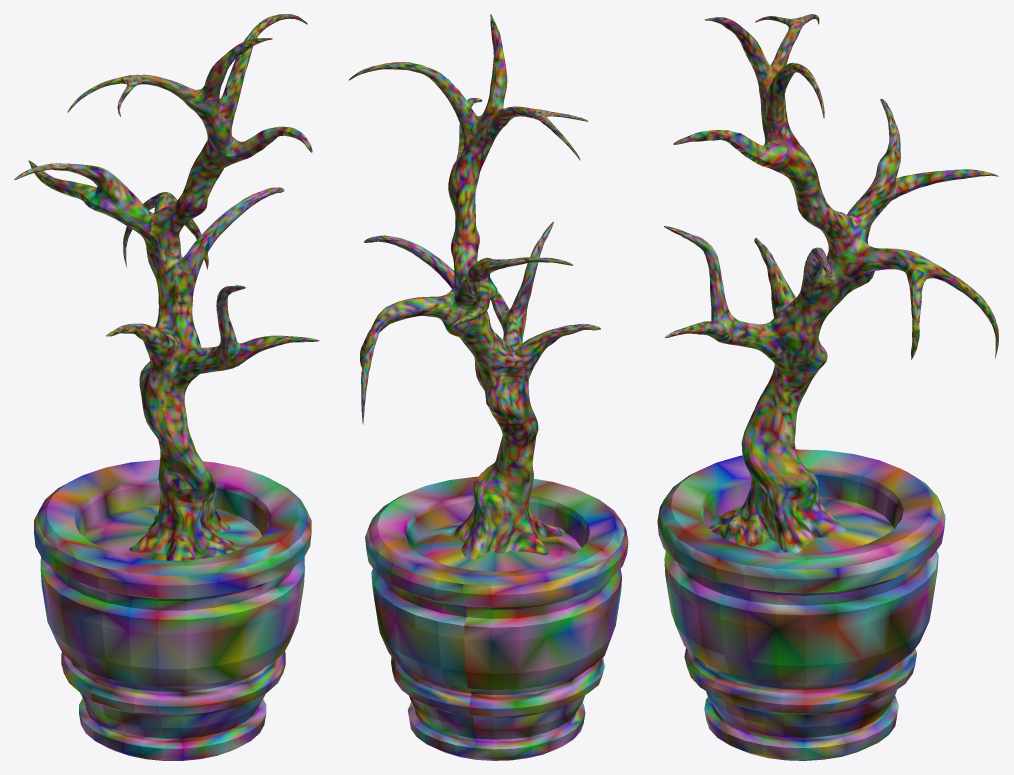
File: Plant.fbx
The picture shows the model from 3 angles, left to right: view 1: azimuth 30°, elevation 25°; view 2: azimuth 150°, elevation 25°; view 3: azimuth 270°, elevation 25°; orthographic projection. The views are drawn at different scales.
Visible parts, largest first — view 1: Plant; view 2: Plant; view 3: Plant.
Part boxes in pixels (x1=…): Plant: x1=14, y1=14, x2=319, y2=760; Plant: x1=349, y1=14, x2=628, y2=760; Plant: x1=657, y1=14, x2=998, y2=760.
Size of the model in its own units: 119 by 302 by 128.
